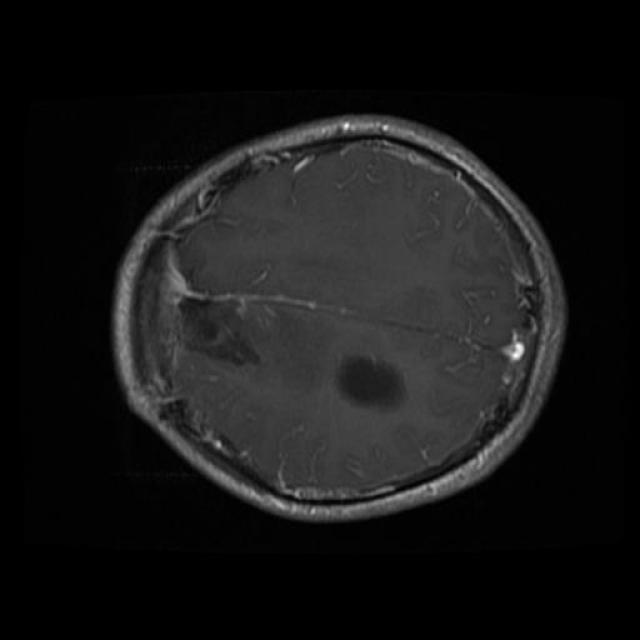Glioma: (178, 298, 258, 365), (335, 354, 403, 410)
